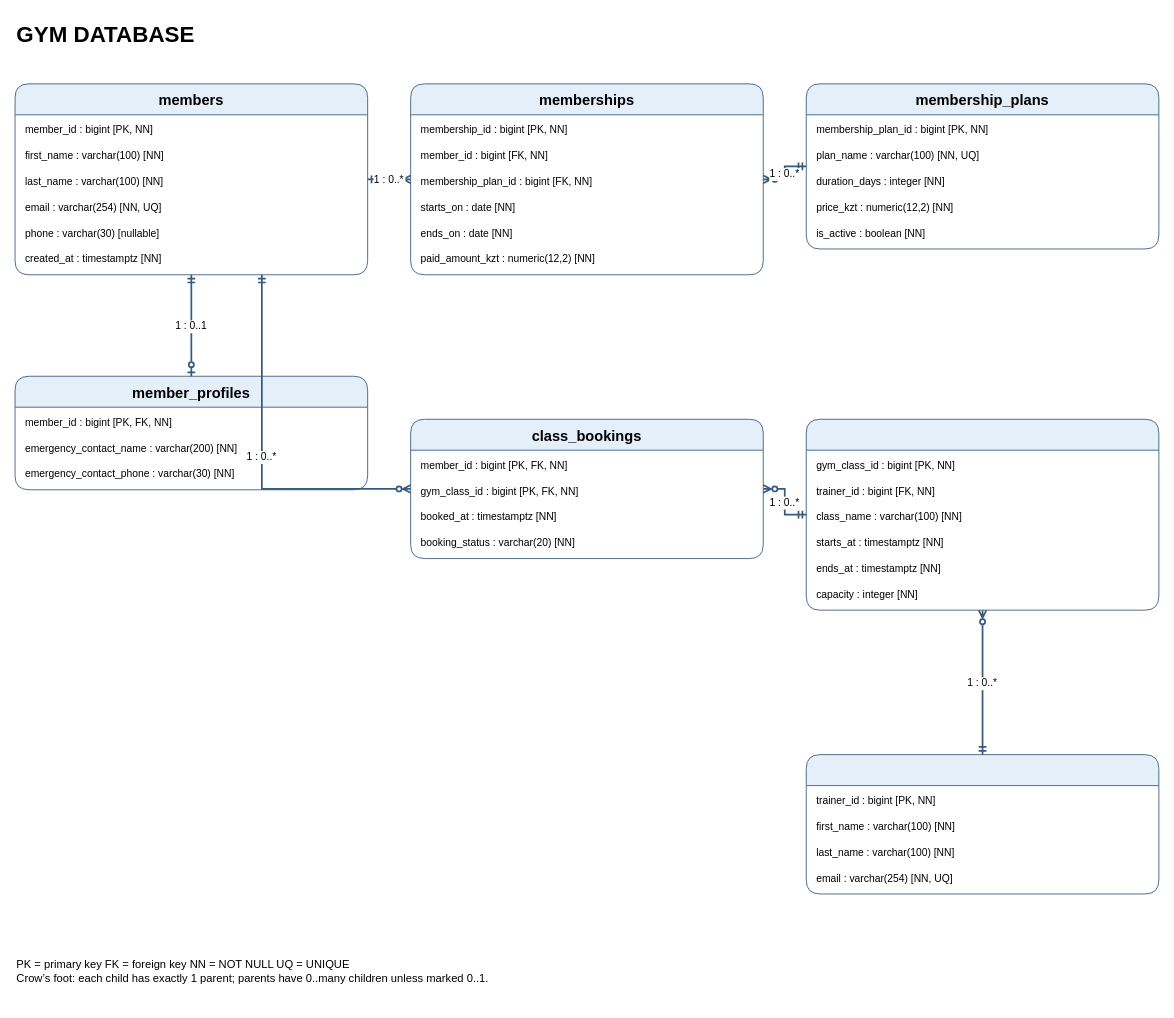
Image size: 1174x1018. Some labels were removed from this diagram. Here are the shapes that lost their labels. From the top down, the box of each, then its label:
(805, 418, 1159, 610): gym_classes
(805, 754, 1159, 894): trainers
